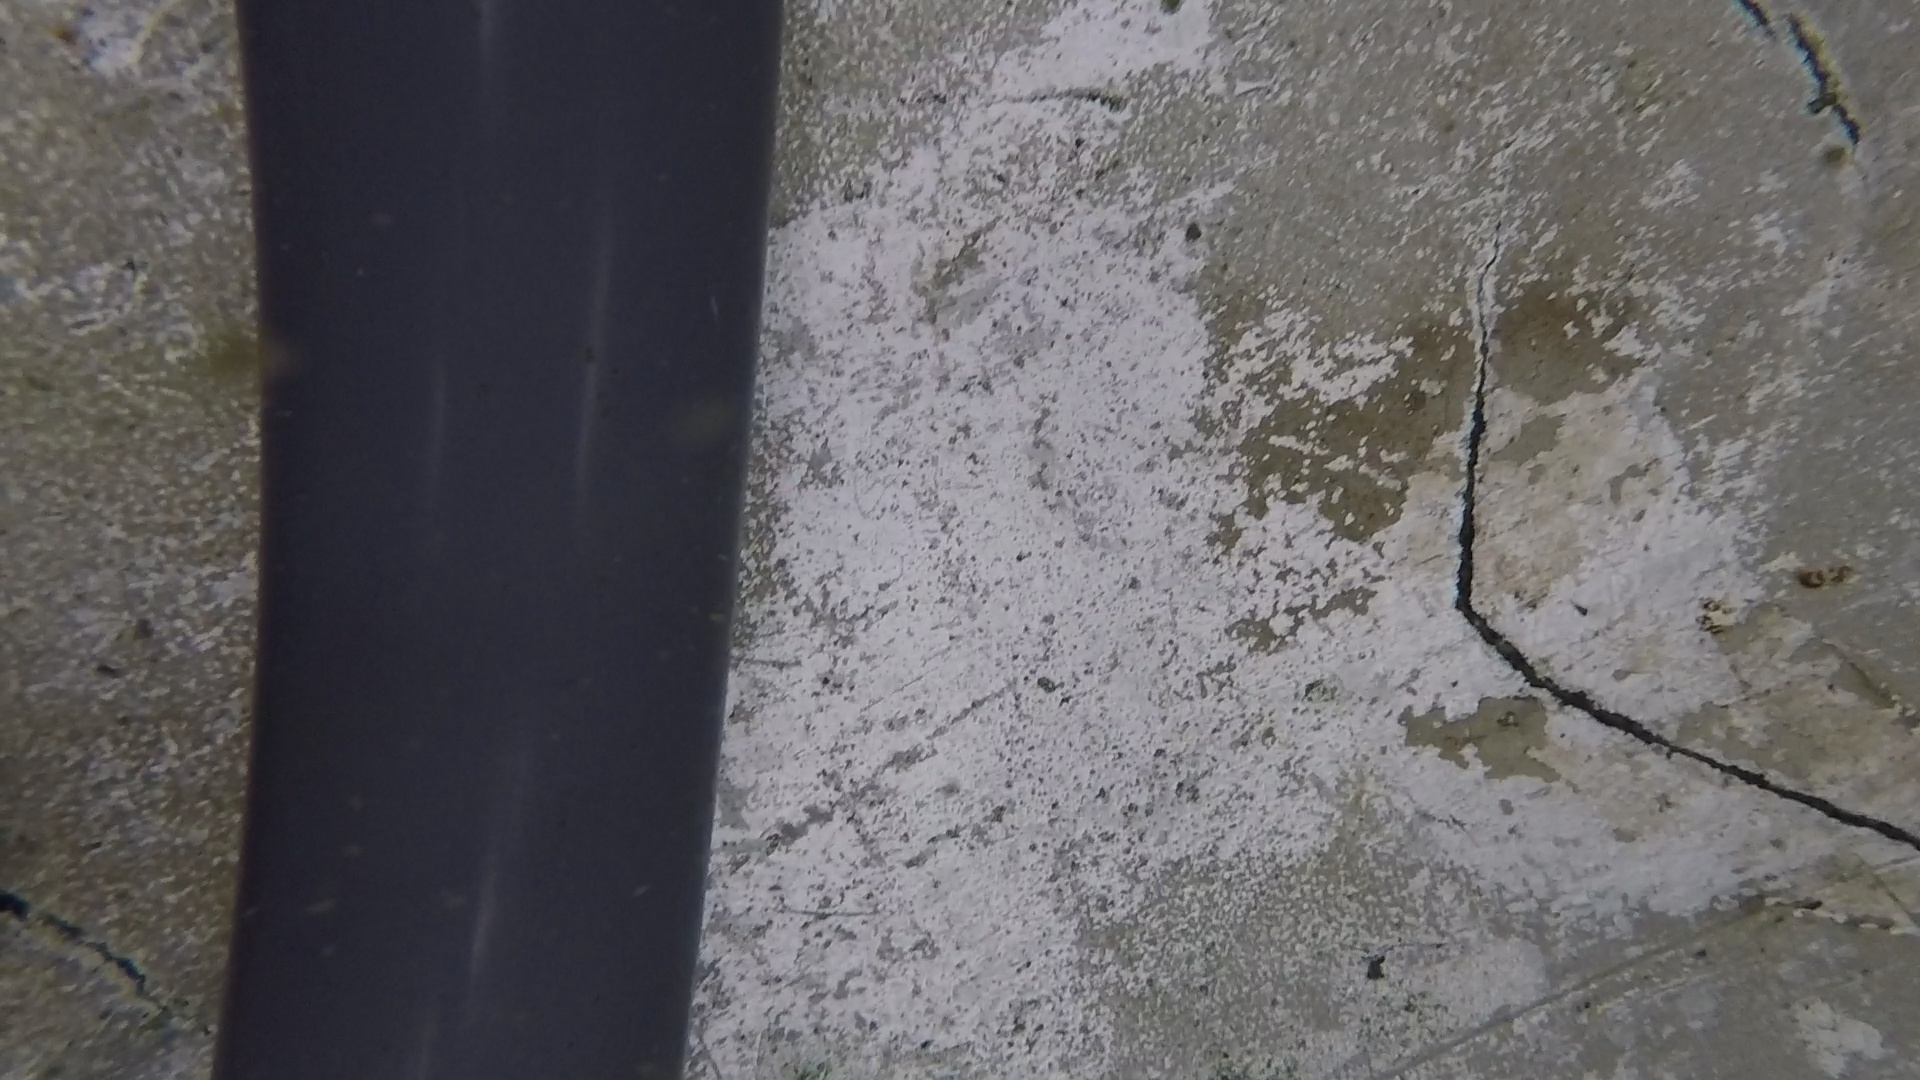pipe: (204, 1, 789, 1079)
